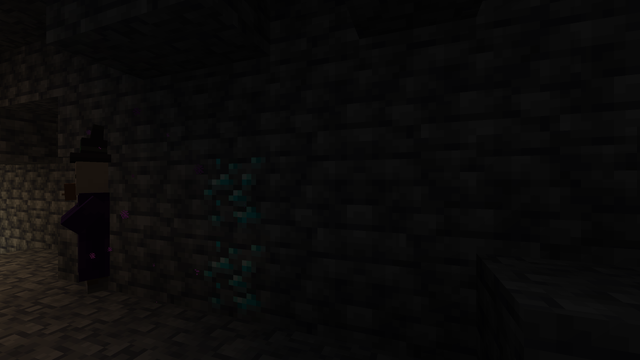sorcieres: (59, 155, 111, 298)
